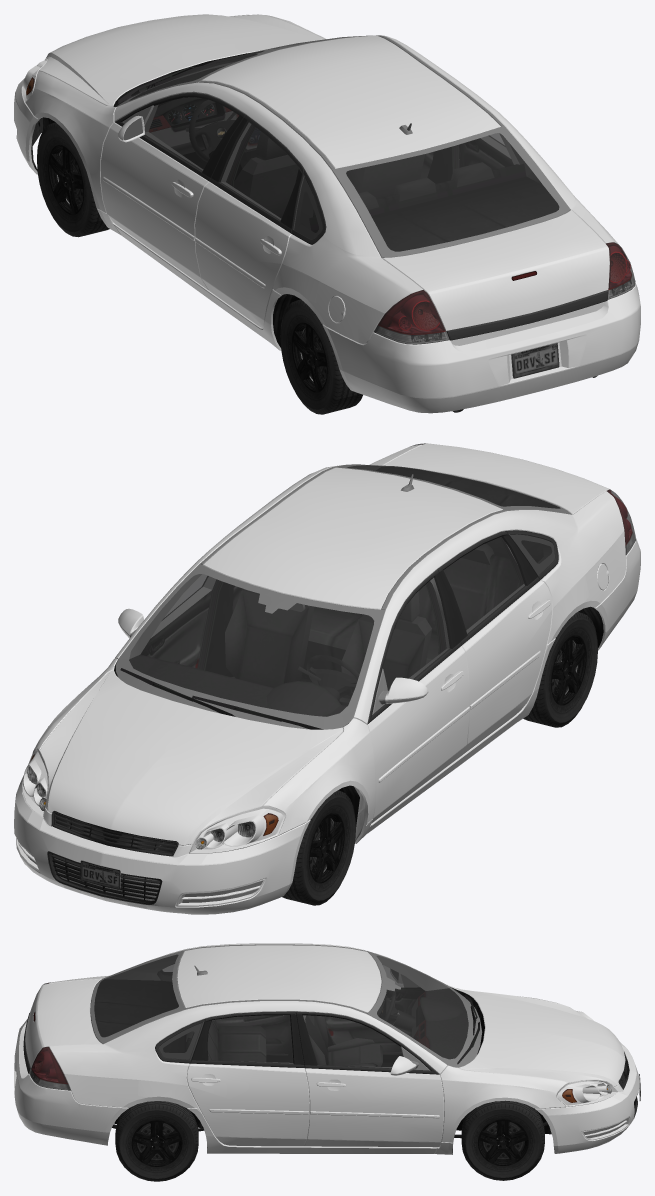
File: car1.FBX
The picture shows the model from 3 angles, top to bottom: view 1: azimuth 30°, elevation 25°; view 2: azimuth 150°, elevation 25°; view 3: azimuth 270°, elevation 25°; orthographic projection. The views are drawn at different scales.
Parts seen in each view (by area): view 1: car1; view 2: car1; view 3: car1.
Part boxes in pixels (box(x1,y1,x2,y2)): car1: box(14, 14, 640, 414); car1: box(14, 443, 640, 914); car1: box(14, 943, 640, 1181).
Bounding box in the file's own units: 5.17 × 3.84 × 12.91.
